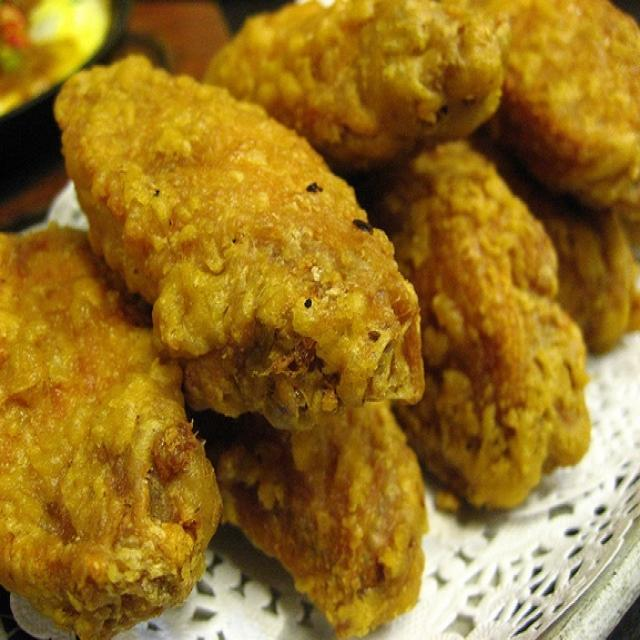Deep fried chicken wing: (54, 52, 444, 430)
